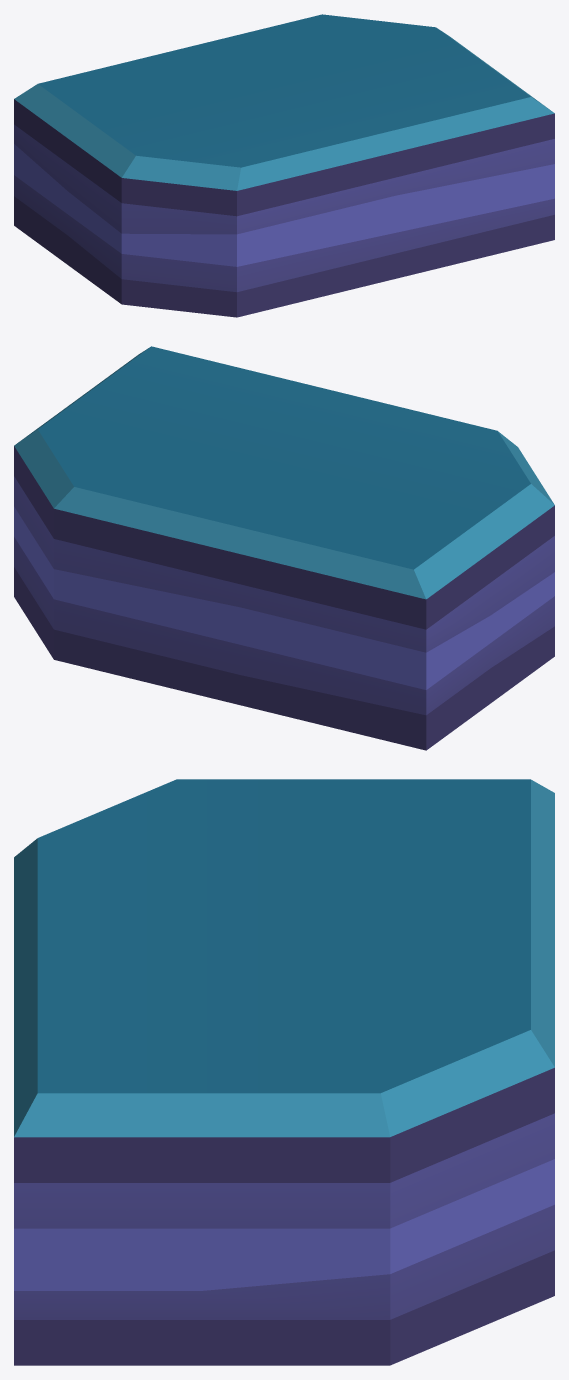
Rendered from StoneWall025.fbx.
The picture shows the model from 3 angles, top to bottom: view 1: azimuth 30°, elevation 25°; view 2: azimuth 150°, elevation 25°; view 3: azimuth 270°, elevation 25°; orthographic projection. The views are drawn at different scales.
Parts seen in each view (by area): view 1: StoneWall025; view 2: StoneWall025; view 3: StoneWall025.
Boxes of the visible parts, <box> form: StoneWall025: <box>14,14,554,317</box>; StoneWall025: <box>14,346,554,750</box>; StoneWall025: <box>14,779,554,1365</box>.
Bounding box in the file's own units: 533 × 186 × 354.
